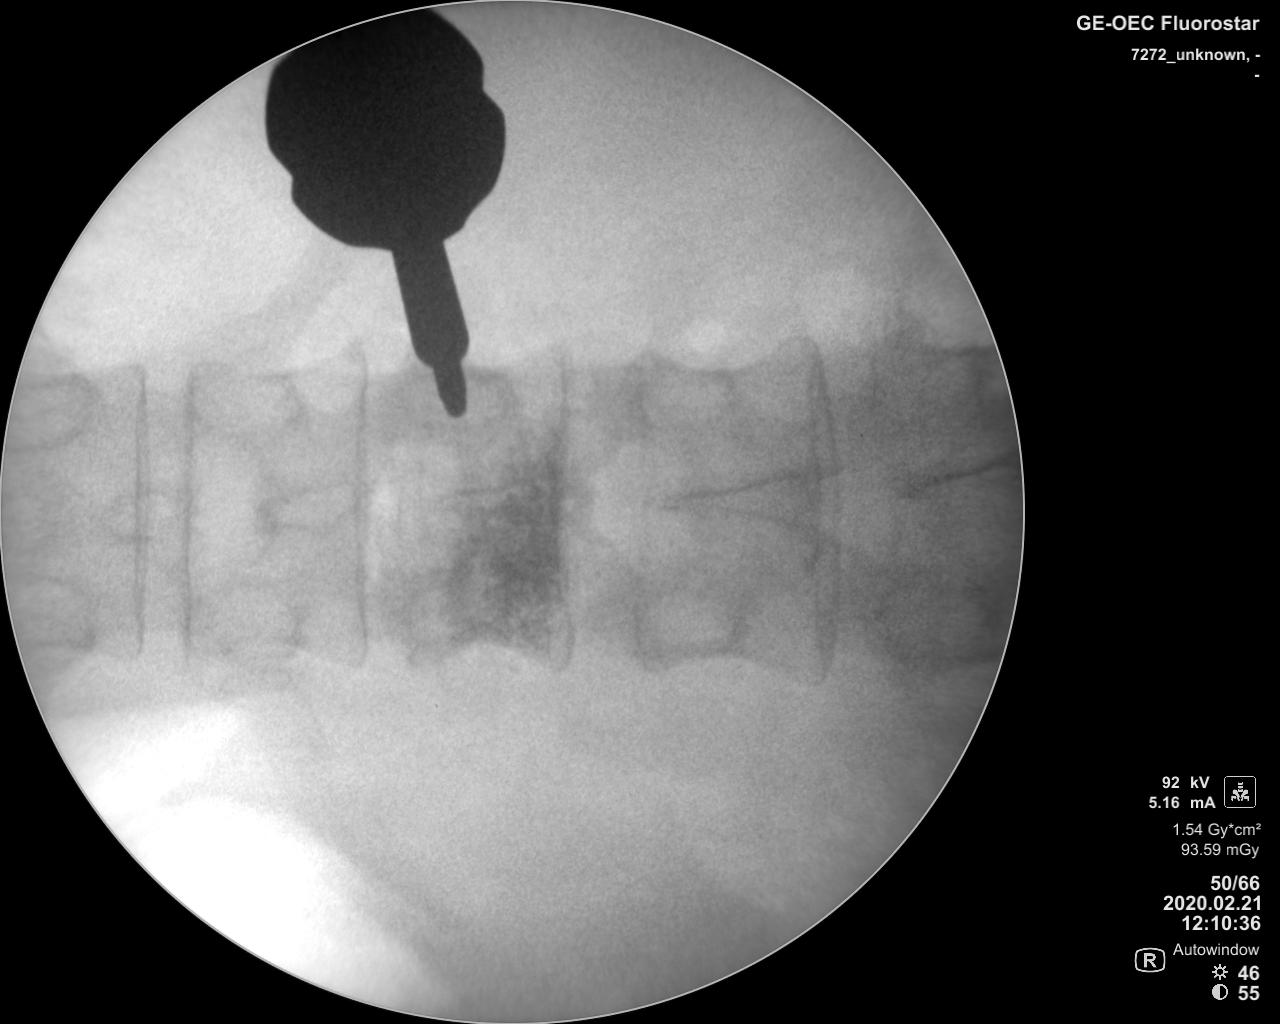eyes: (192, 359, 303, 440), (636, 585, 740, 670), (197, 581, 299, 667), (411, 370, 511, 444), (636, 358, 736, 432), (13, 372, 104, 450), (15, 574, 99, 650)
line: (802, 326, 848, 696), (110, 347, 155, 670), (545, 324, 584, 691), (339, 326, 376, 680), (178, 343, 206, 678)
nose: (643, 469, 839, 532), (417, 472, 591, 525), (245, 474, 365, 537), (73, 488, 195, 544)
